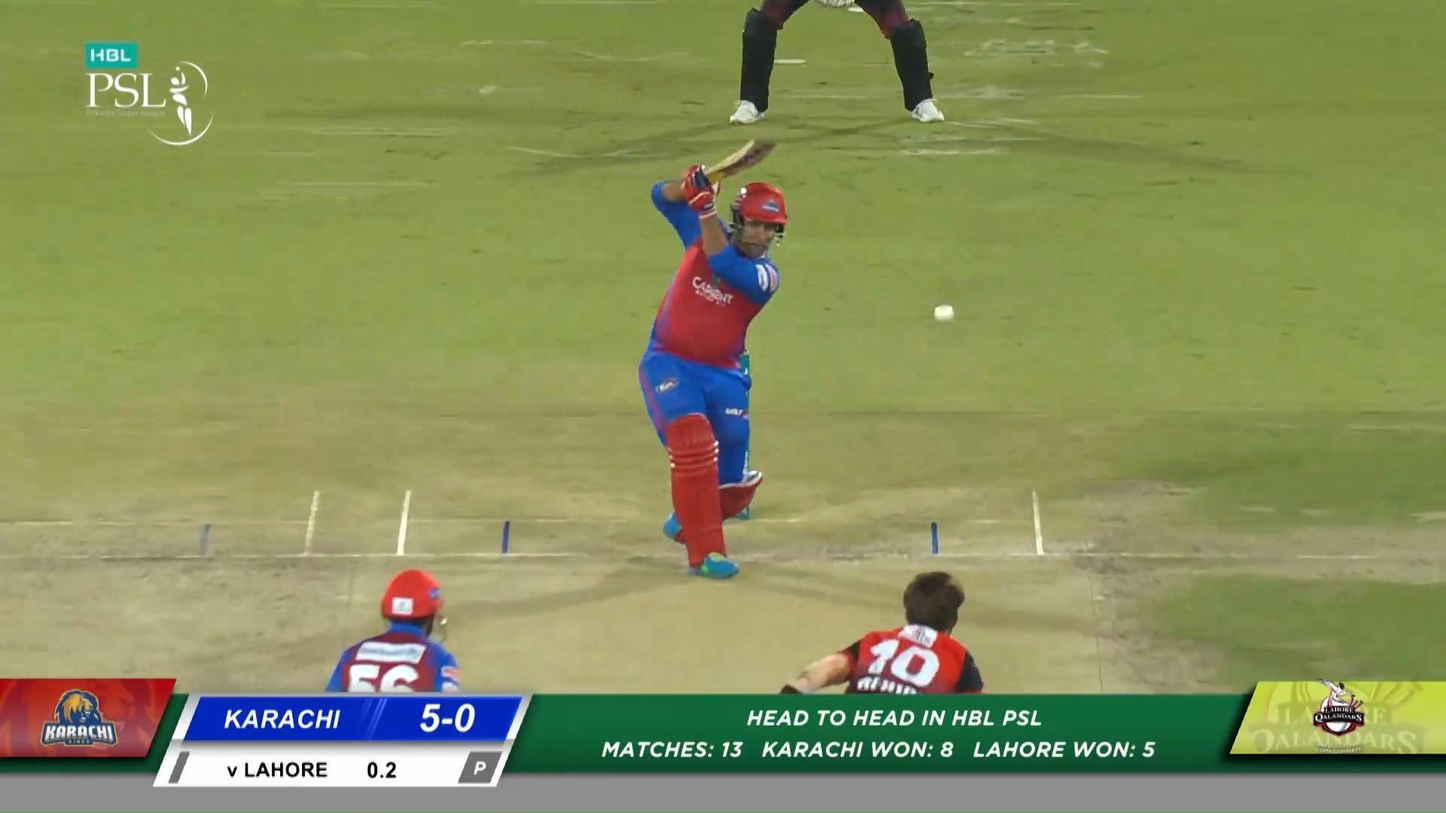BM 1: (640, 134, 791, 583)
BO: (775, 569, 983, 695)
